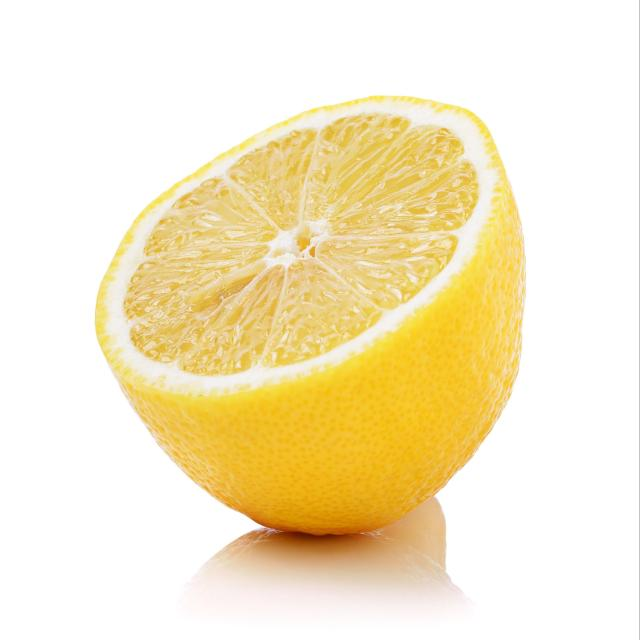lemon: (85, 91, 532, 545)
